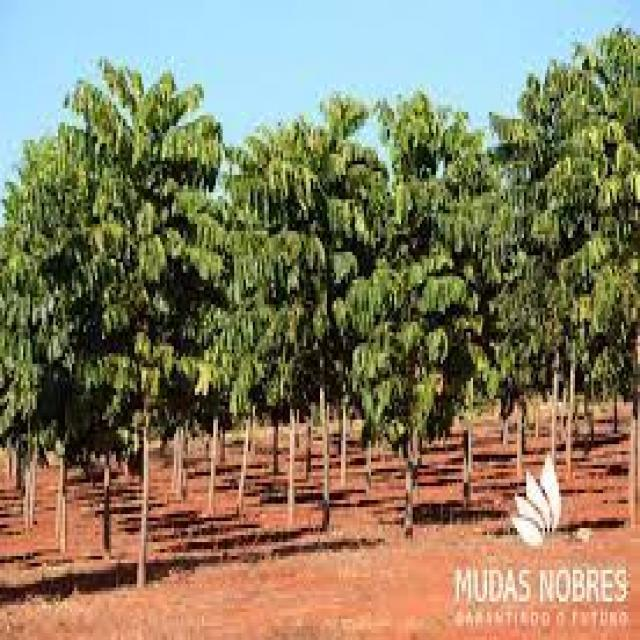tree: (70, 70, 222, 591), (364, 133, 466, 535), (257, 129, 348, 528)
